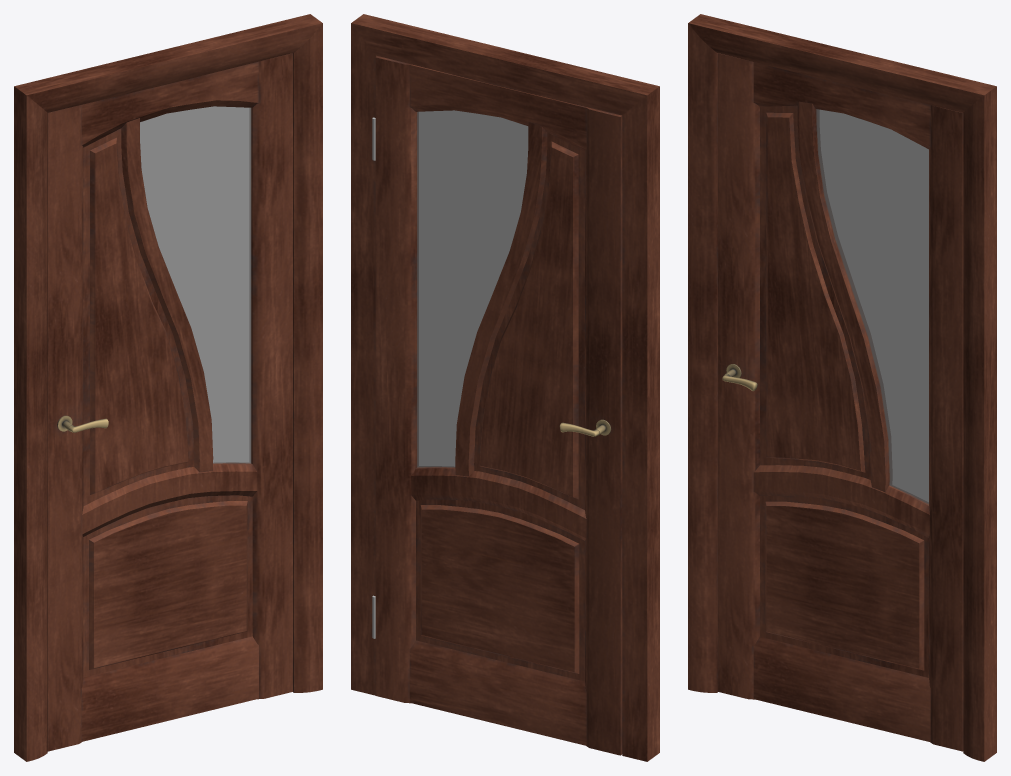
3 views of the same model, side by side, from view 1: azimuth 30°, elevation 25°; view 2: azimuth 150°, elevation 25°; view 3: azimuth 330°, elevation 25° (orthographic).
Parts seen in each view (by area): view 1: door5, door5_frame; view 2: door5, door5_frame; view 3: door5, door5_frame.
Boxes of the visible parts, x1,y1,x2,y2 form: door5: (47, 53, 292, 751); door5_frame: (14, 14, 322, 761); door5: (375, 56, 622, 755); door5_frame: (351, 14, 659, 761); door5: (717, 53, 963, 751); door5_frame: (688, 14, 996, 761).
Bounding box in the file's own units: 8.22 × 17.67 × 1.66.
Materials: 1 (1 with a texture image).
